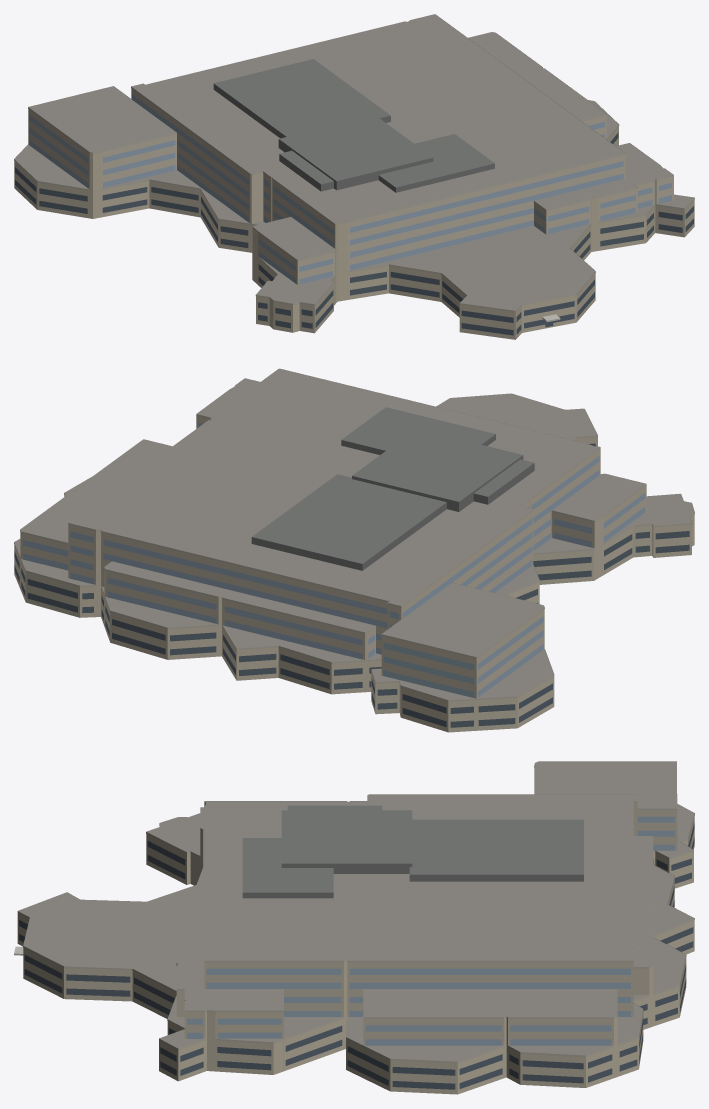
The model's file is va-hospital-mcclellan.glb.
3 views of the same model, one above another, from view 1: azimuth 30°, elevation 25°; view 2: azimuth 150°, elevation 25°; view 3: azimuth 270°, elevation 25° (orthographic). The views are drawn at different scales.
Visible parts, largest first — view 1: va_hospital_mcclellan; view 2: va_hospital_mcclellan; view 3: va_hospital_mcclellan.
Boxes of the visible parts, x1=… form: va_hospital_mcclellan: x1=14, y1=14, x2=694, y2=339; va_hospital_mcclellan: x1=14, y1=368, x2=694, y2=732; va_hospital_mcclellan: x1=14, y1=761, x2=694, y2=1094.
Size of the model in its own units: 164 by 27.57 by 171.
